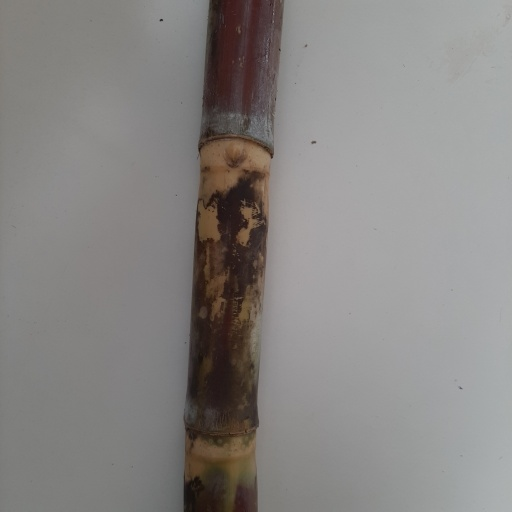Bud: (222, 140, 248, 170)
